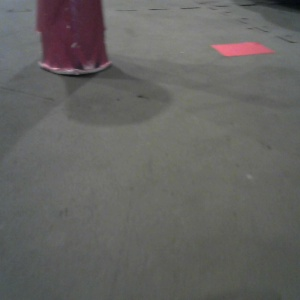middle: (22, 1, 85, 37)
